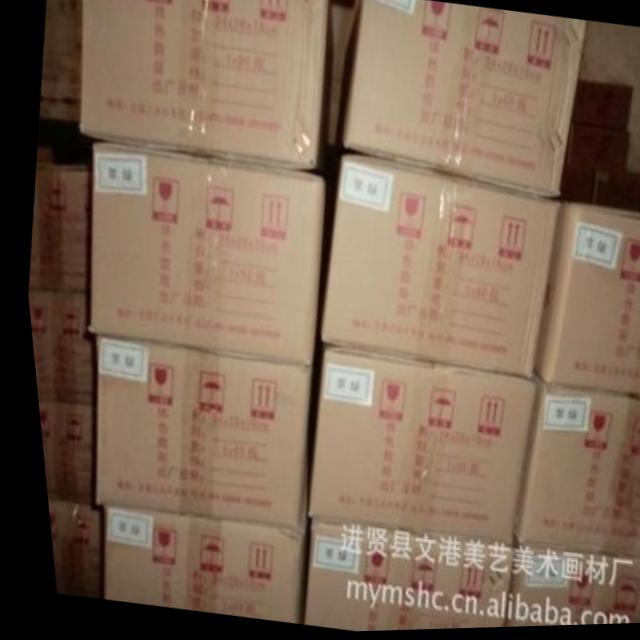box: (315, 154, 554, 381), (82, 145, 321, 369), (334, 0, 585, 202), (298, 346, 525, 550), (77, 0, 333, 174), (87, 336, 304, 529), (92, 477, 298, 624), (503, 375, 640, 560), (523, 204, 640, 401), (294, 524, 504, 633), (492, 550, 640, 630), (554, 86, 630, 214), (23, 147, 88, 294), (22, 291, 93, 400), (30, 398, 85, 502), (37, 0, 83, 124), (38, 498, 92, 596), (319, 4, 353, 145)
